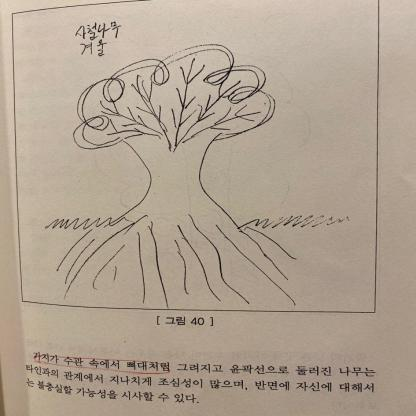branch_line: (115, 103, 224, 150)
crown_cloud: (71, 46, 276, 150)
root_under: (56, 211, 299, 307)
trunk_straight: (132, 148, 219, 206)
